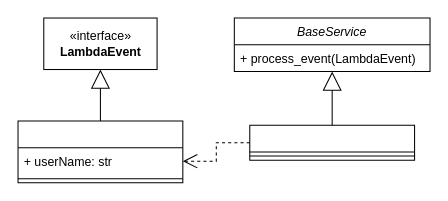
Some shapes in this 448 by 201 pixel diagram are drawn without their labels. The shapes that lost their labels are listed below. From the top down, each one's box as (x1, y1, x2, y2) in pixels, then its label:
(17, 120, 183, 183): SignupEvent
(249, 124, 415, 160): SignupService
